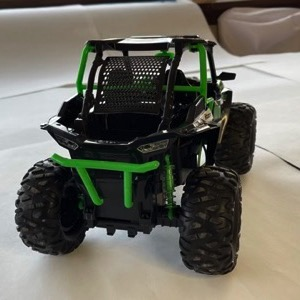polaris: (15, 33, 258, 277)
